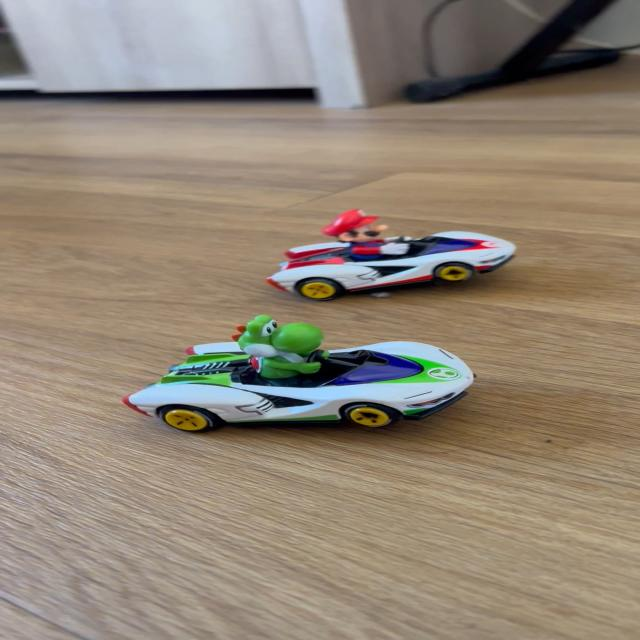mario: (256, 212, 528, 300)
yoshi: (112, 313, 490, 439)
